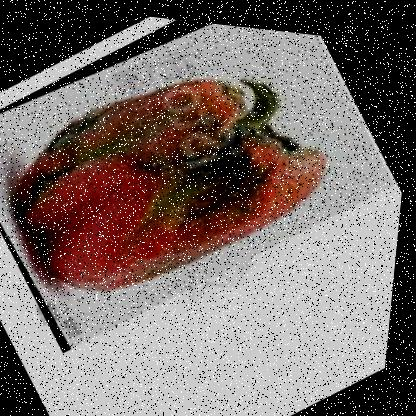capsicum_rotten: (0, 0, 409, 379)
